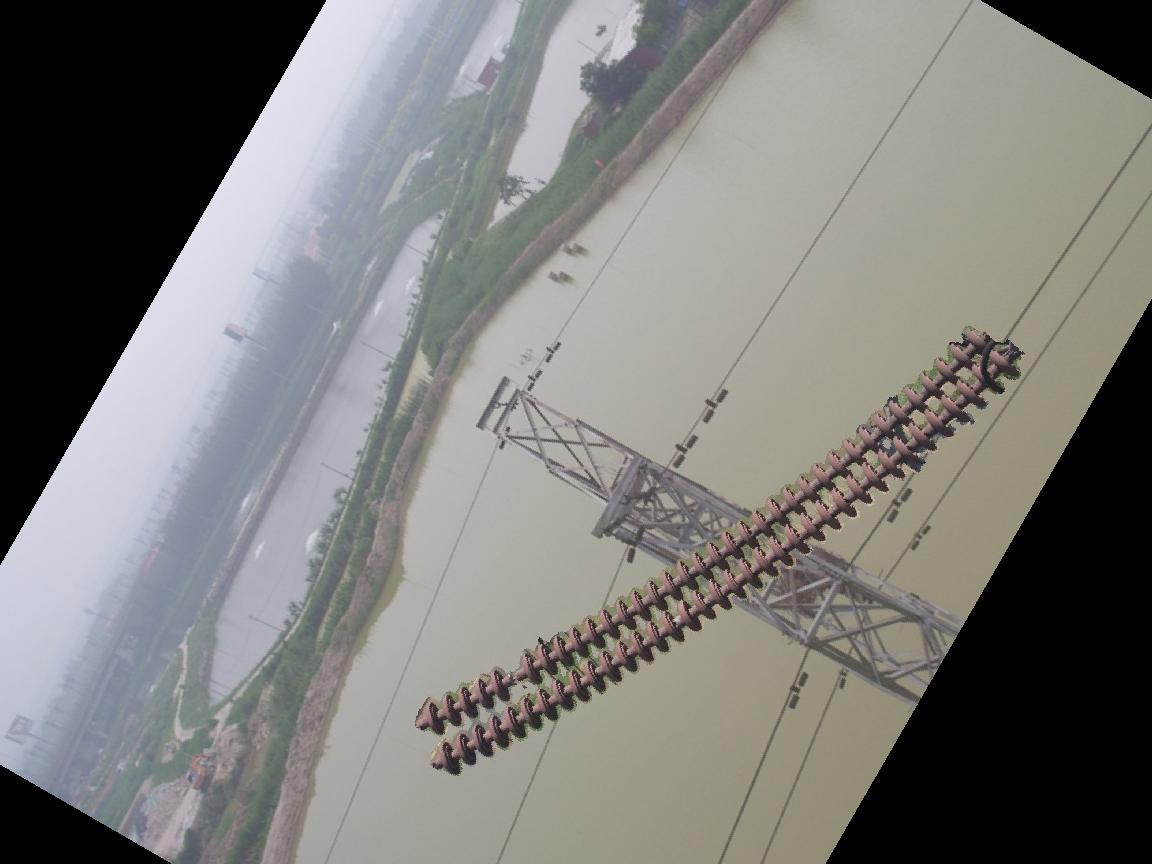insulator: (412, 319, 1029, 779)
insulator_stringdrop: (484, 648, 545, 701)
